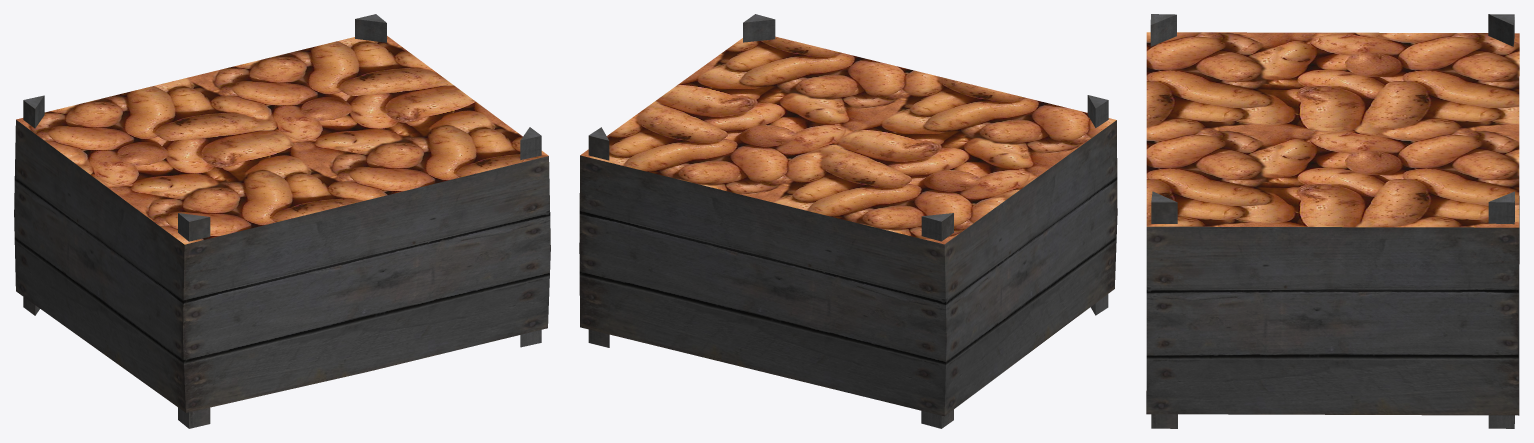
Rendered from potatoebox01_LOD02.fbx.
3 renders of one model, left to right at view 1: azimuth 30°, elevation 25°; view 2: azimuth 150°, elevation 25°; view 3: azimuth 270°, elevation 25°, orthographic. The views are drawn at different scales.
Parts seen in each view (by area): view 1: Mesh Object; view 2: Mesh Object; view 3: Mesh Object.
Boxes of the visible parts, box(x1,y1,x2,y2) form: Mesh Object: box(14, 14, 550, 428); Mesh Object: box(579, 14, 1117, 428); Mesh Object: box(1146, 14, 1519, 428).
Size of the model in its own units: 0.6318 by 0.3394 by 0.5067.
